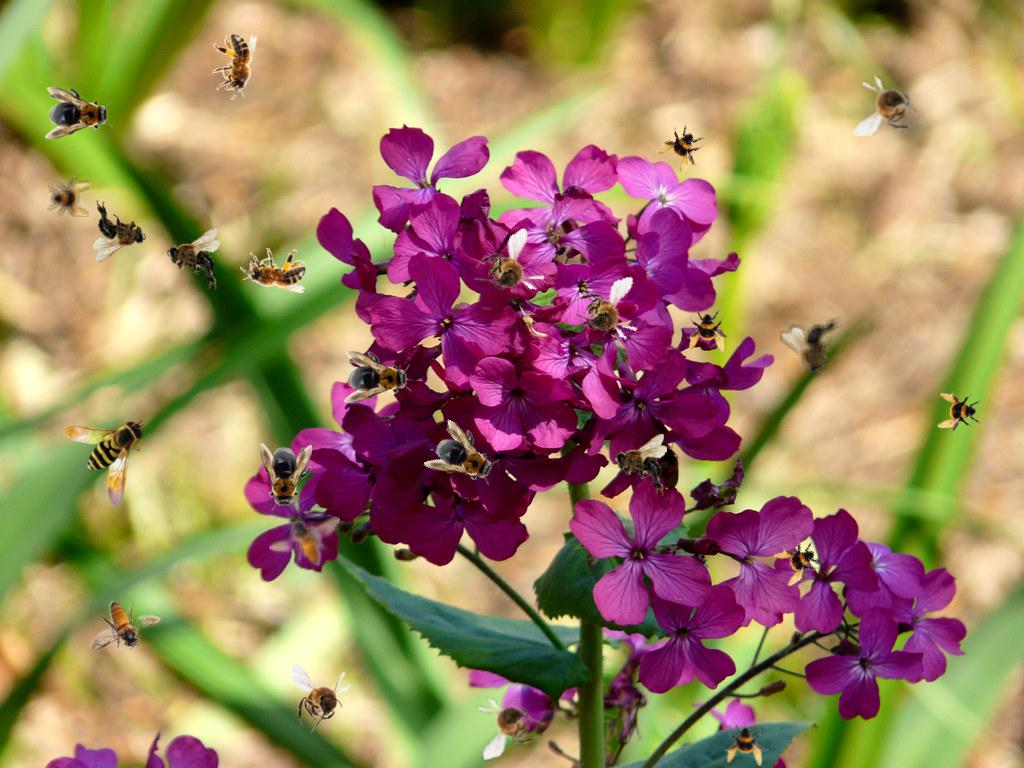Bee: (463, 227, 556, 315), (64, 419, 146, 507), (422, 418, 508, 496), (467, 684, 552, 762), (564, 275, 647, 353), (778, 314, 853, 382), (291, 664, 352, 734), (854, 75, 924, 136), (769, 532, 831, 594), (652, 118, 714, 180), (269, 516, 340, 566), (90, 601, 161, 651), (260, 443, 312, 511), (45, 87, 113, 139), (344, 351, 412, 403), (614, 434, 667, 496), (167, 228, 220, 290), (93, 200, 146, 262), (212, 34, 257, 100), (240, 248, 306, 293), (936, 390, 982, 436), (47, 175, 91, 219), (687, 309, 731, 353), (725, 722, 769, 766)
